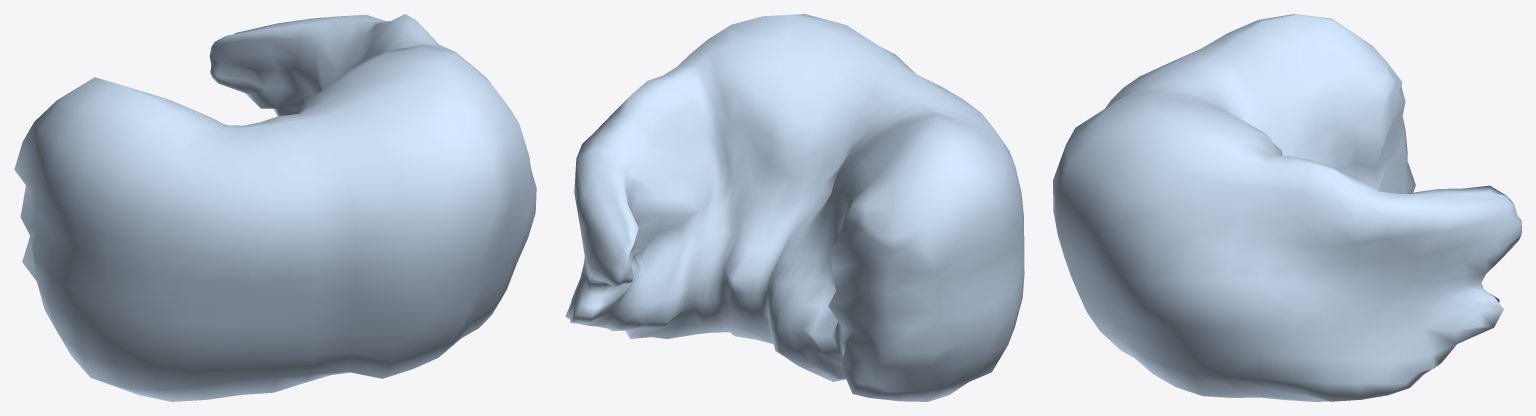
File: hAsteroid1.obj
3 views of the same model, side by side, from view 1: azimuth 30°, elevation 25°; view 2: azimuth 150°, elevation 25°; view 3: azimuth 270°, elevation 25° (orthographic). The views are drawn at different scales.
Parts seen in each view (by area): view 1: Tube11; view 2: Tube11; view 3: Tube11.
Boxes of the visible parts, x1=… form: Tube11: x1=14, y1=14, x2=536, y2=401; Tube11: x1=565, y1=14, x2=1024, y2=401; Tube11: x1=1053, y1=14, x2=1521, y2=401.
Bounding box in the file's own units: 91.52 × 61.47 × 92.92.
